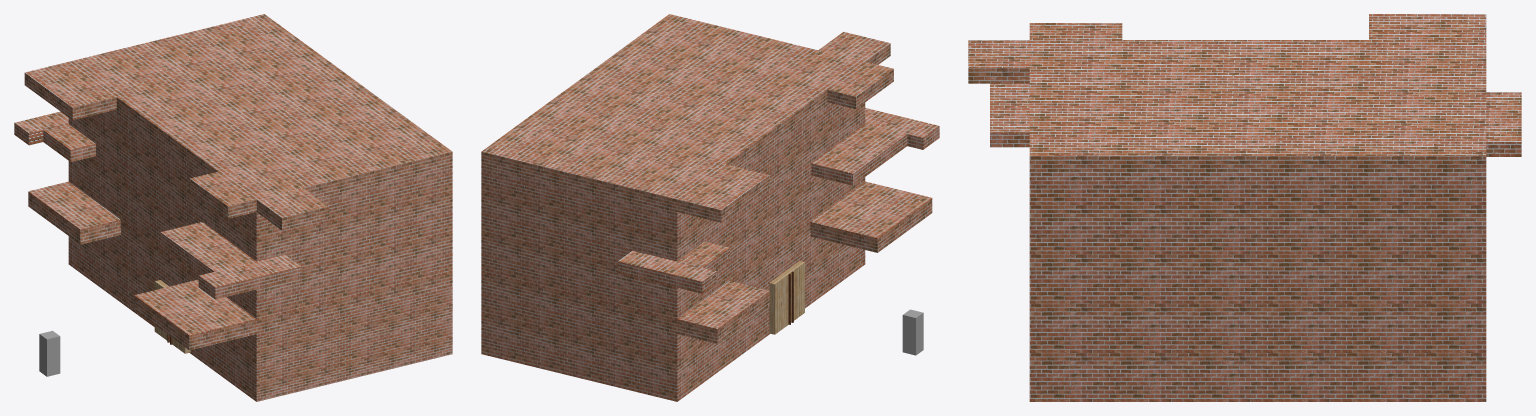
Rendered from building2.fbx.
3 renders of one model, left to right at view 1: azimuth 30°, elevation 25°; view 2: azimuth 150°, elevation 25°; view 3: azimuth 270°, elevation 25°, orthographic. The views are drawn at different scales.
Parts seen in each view (by area): view 1: pCube2, pCube1; view 2: pCube2, pCube3, pCube1; view 3: pCube2.
Part boxes in pixels (<box>): pCube2: <box>14,14,452,401</box>; pCube1: <box>39,330,60,376</box>; pCube2: <box>481,14,939,401</box>; pCube3: <box>769,261,804,334</box>; pCube1: <box>902,309,923,355</box>; pCube2: <box>968,14,1521,401</box>.
Bounding box in the file's own units: 1079 × 633 × 1291.
